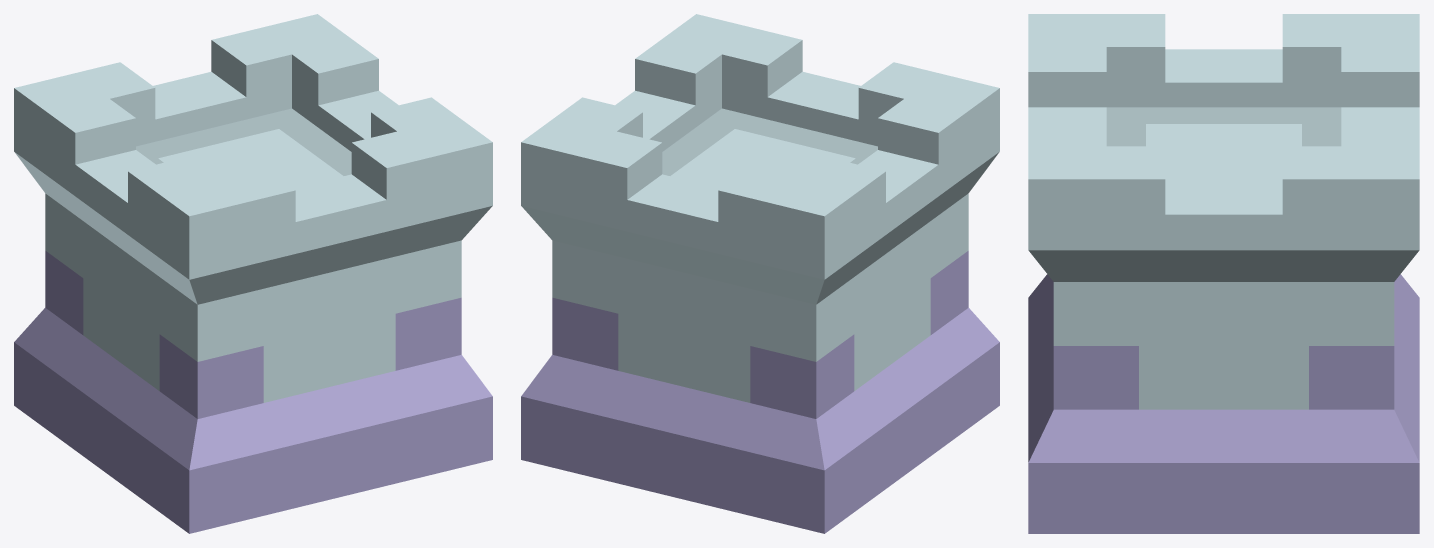
File: towerSquare_sampleF.glb
The picture shows the model from 3 angles, left to right: view 1: azimuth 30°, elevation 25°; view 2: azimuth 150°, elevation 25°; view 3: azimuth 270°, elevation 25°; orthographic projection. The views are drawn at different scales.
Visible parts, largest first — view 1: towerSquare_sampleF; view 2: towerSquare_sampleF; view 3: towerSquare_sampleF.
Boxes of the visible parts, bbox=[...] form: towerSquare_sampleF: bbox=[14, 14, 492, 533]; towerSquare_sampleF: bbox=[521, 14, 999, 533]; towerSquare_sampleF: bbox=[1028, 14, 1419, 533].
Size of the model in its own units: 1 by 1 by 1.
